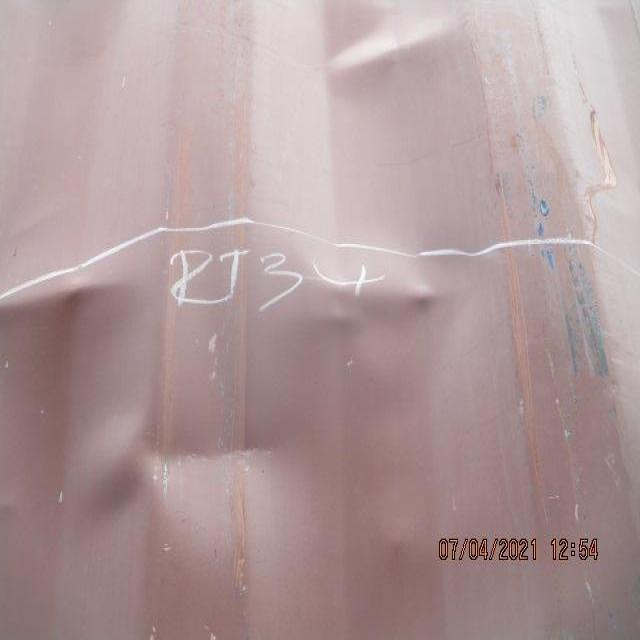dent: (7, 172, 511, 600)
